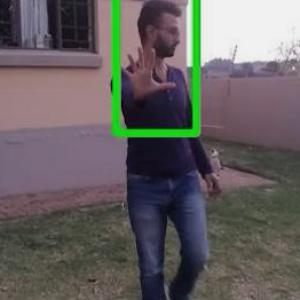follow_hand: (113, 42, 179, 101)
